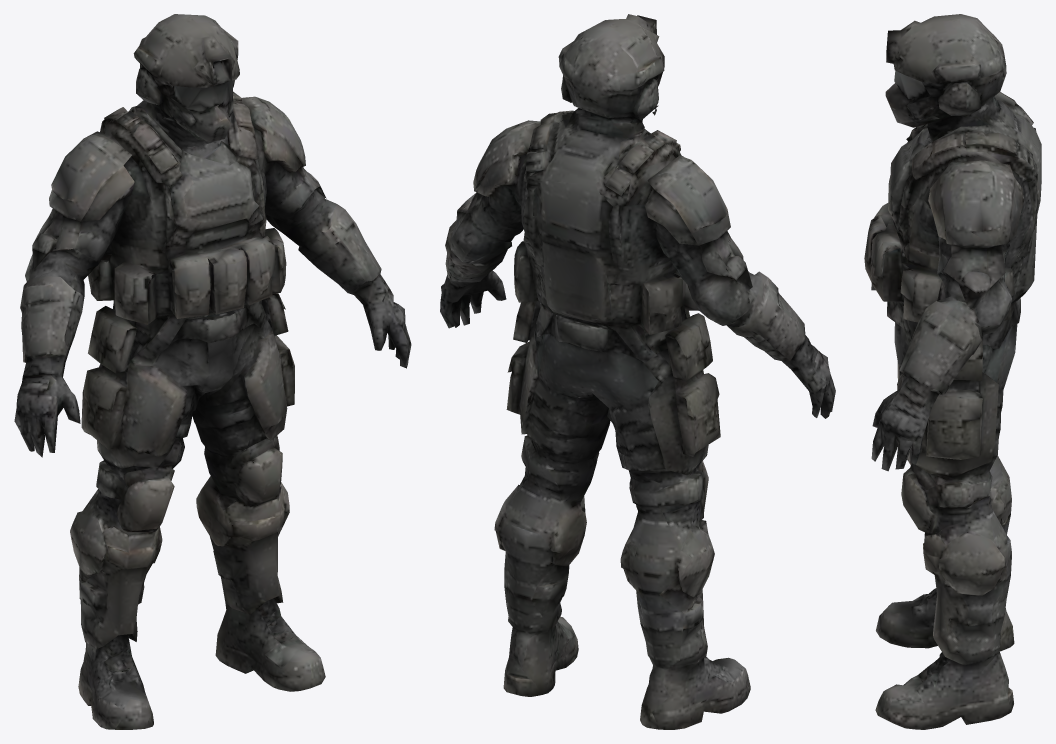
Rendered from enemy_heavy.glb.
3 views of the same model, side by side, from view 1: azimuth 30°, elevation 25°; view 2: azimuth 150°, elevation 25°; view 3: azimuth 270°, elevation 25° (orthographic).
Parts seen in each view (by area): view 1: geometry_0; view 2: geometry_0; view 3: geometry_0.
Boxes of the visible parts, x1,y1,x2,y2 form: geometry_0: (14, 14, 411, 729); geometry_0: (440, 14, 835, 729); geometry_0: (864, 14, 1041, 729).
Bounding box in the file's own units: 0.6875 × 1.14 × 0.2763.
1 material, 1 textured.
